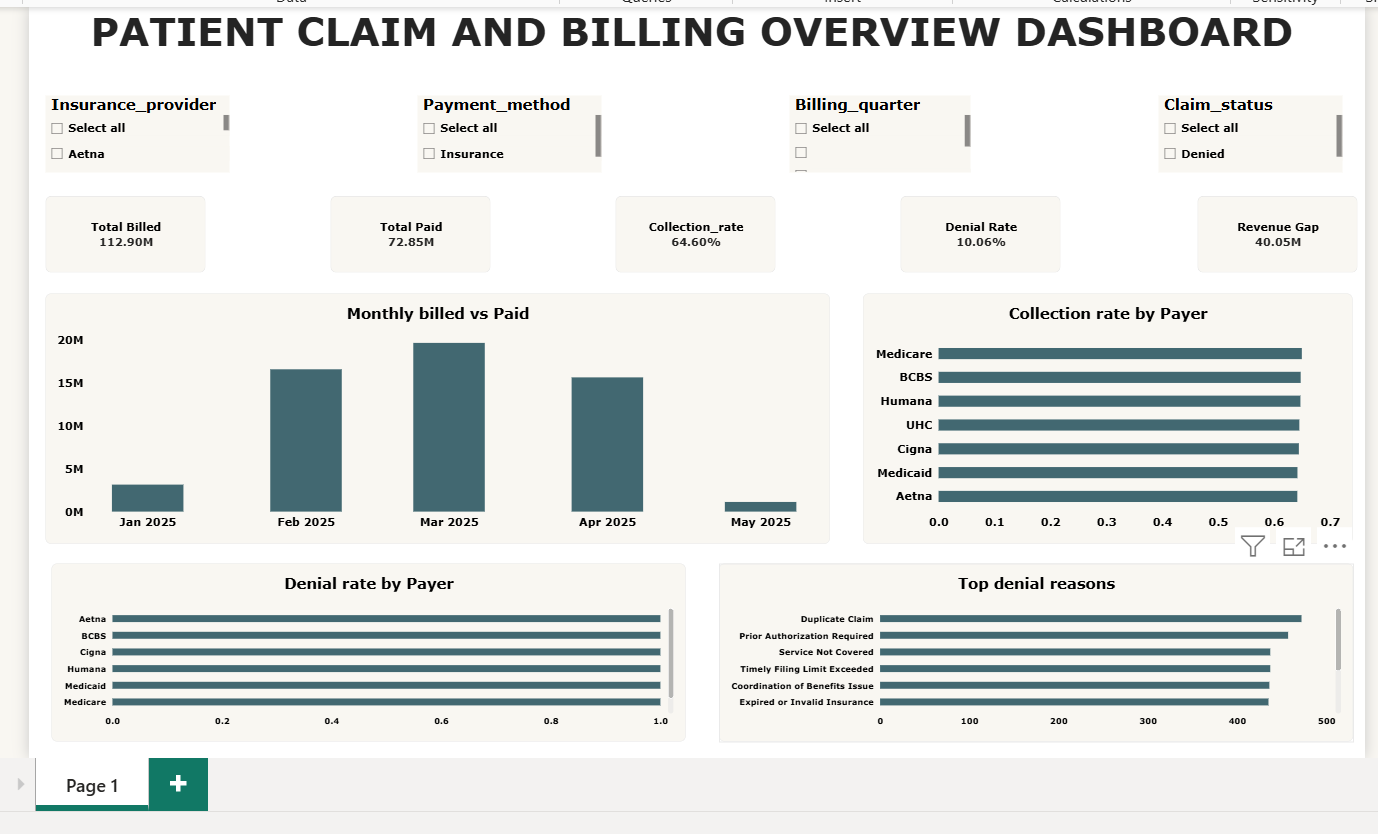

The page's visual inventory and layout, read from the dashboard file:
{"tool":"powerbi","page":{"name":"Page 1","canvas":[1920,1080],"ordinal":0},"visuals":[{"type":"textbox","box":[88,0,1744,82],"z":0},{"type":"cardVisual","fields":{"Data":["claims_and_billing_clean.Total Billed"]},"box":[23.2,272.5,230,110],"z":1000},{"type":"cardVisual","fields":{"Data":["claims_and_billing_clean.Total Paid"]},"box":[433.4,272.5,230,110],"z":2000},{"type":"cardVisual","fields":{"Data":["Avg(claims_and_billing_clean.collection_rate)"]},"box":[843.6,272.5,230,110],"z":3000},{"type":"cardVisual","fields":{"Data":["claims_and_billing_clean.Denial Rate"]},"box":[1253.8,272.5,230,110],"z":4000},{"type":"cardVisual","fields":{"Data":["claims_and_billing_clean.Revenue Gap"]},"box":[1680,272,230,110],"z":5000},{"type":"slicer","fields":{"Values":["claims_and_billing_clean.insurance_provider"]},"box":[23,127.6,264,110],"z":6000},{"type":"slicer","fields":{"Values":["claims_and_billing_clean.payment_method"]},"box":[558,127.6,264,110],"z":7000},{"type":"slicer","fields":{"Values":["claims_and_billing_clean.billing_quarter"]},"box":[1093,127.6,260,110],"z":8000},{"type":"slicer","fields":{"Values":["claims_and_billing_clean.claim_status"]},"box":[1624,127.6,264,110],"z":9000},{"type":"columnChart","title":"Monthly billed vs Paid","fields":{"Y":["claims_and_billing_clean.Total Paid"],"Category":["claims_and_billing_clean.billing_month"]},"box":[24,413,1128,360],"z":10000},{"type":"clusteredBarChart","title":"Collection rate by Payer","fields":{"Category":["claims_and_billing_clean.insurance_provider"],"Y":["claims_and_billing_clean.Collection Rate"]},"box":[1200,413,704,360],"z":11000},{"type":"clusteredBarChart","title":"Denial rate by Payer","fields":{"Category":["claims_and_billing_clean.insurance_provider"],"Y":["claims_and_billing_clean.Denial Rate"]},"box":[32,800,912,256],"z":12000},{"type":"clusteredBarChart","title":"Top denial reasons","fields":{"Category":["claims_and_billing_clean.denial_reason"],"Y":["CountNonNull(claims_and_billing_clean.claim_id)"]},"box":[992,800,912,256],"z":13000}]}

Visuals, with their boxes on the page's 1920x1080 design canvas (x1, y1, x2, y2). These are canvas units, not pixel positions in the 1378x834 screenshot, which may show the page scaled, cropped or inside an application window:
textbox: <bbox>88, 0, 1832, 82</bbox>
cardVisual - claims_and_billing_clean.Total Billed: <bbox>23, 272, 253, 382</bbox>
cardVisual - claims_and_billing_clean.Total Paid: <bbox>433, 272, 663, 382</bbox>
cardVisual - Avg(claims_and_billing_clean.collection_rate): <bbox>844, 272, 1074, 382</bbox>
cardVisual - claims_and_billing_clean.Denial Rate: <bbox>1254, 272, 1484, 382</bbox>
cardVisual - claims_and_billing_clean.Revenue Gap: <bbox>1680, 272, 1910, 382</bbox>
slicer - claims_and_billing_clean.insurance_provider: <bbox>23, 128, 287, 238</bbox>
slicer - claims_and_billing_clean.payment_method: <bbox>558, 128, 822, 238</bbox>
slicer - claims_and_billing_clean.billing_quarter: <bbox>1093, 128, 1353, 238</bbox>
slicer - claims_and_billing_clean.claim_status: <bbox>1624, 128, 1888, 238</bbox>
"Monthly billed vs Paid" columnChart: <bbox>24, 413, 1152, 773</bbox>
"Collection rate by Payer" clusteredBarChart: <bbox>1200, 413, 1904, 773</bbox>
"Denial rate by Payer" clusteredBarChart: <bbox>32, 800, 944, 1056</bbox>
"Top denial reasons" clusteredBarChart: <bbox>992, 800, 1904, 1056</bbox>
